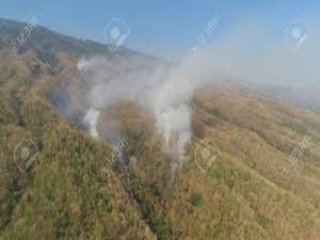smoke: (144, 49, 216, 176), (71, 51, 127, 159)
